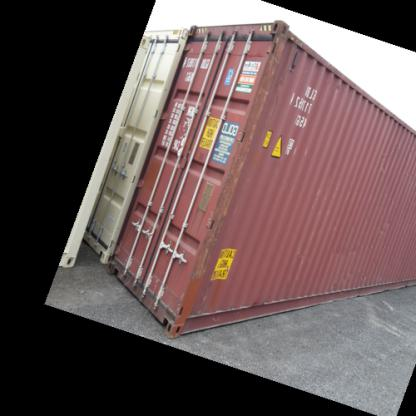Damage: (194, 121, 256, 274), (232, 26, 295, 133)
